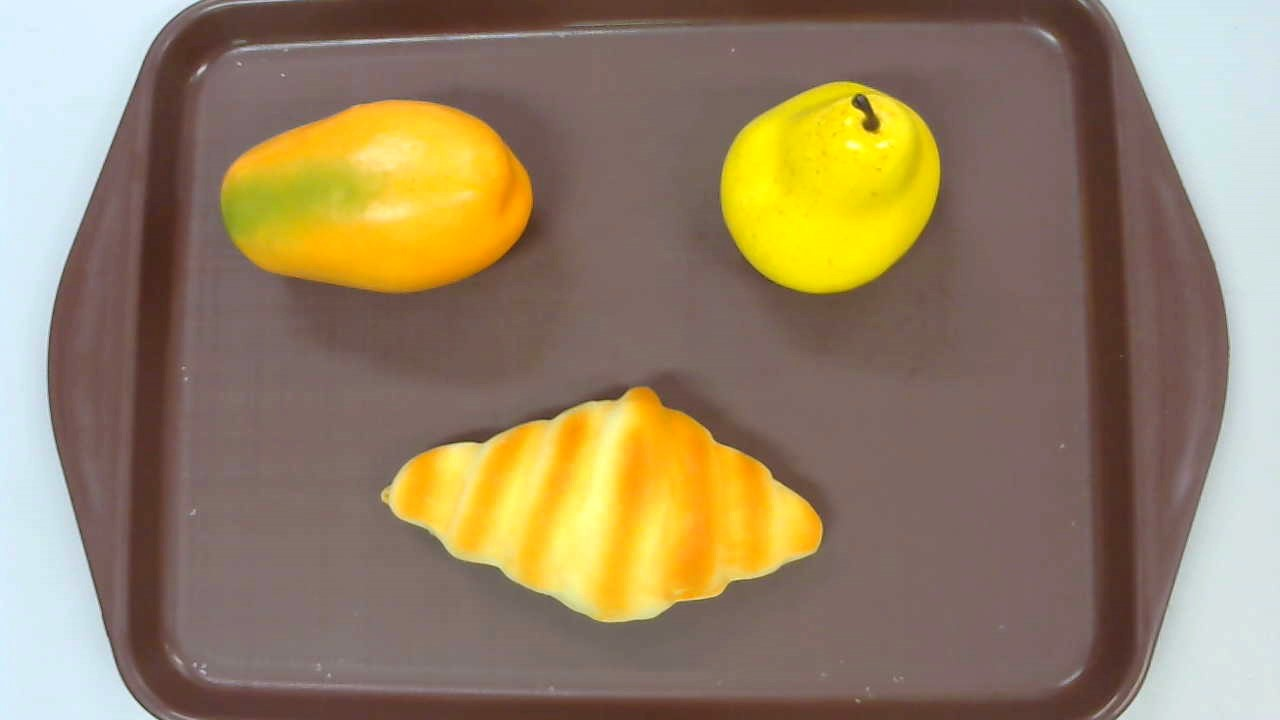croissant: (380, 386, 823, 626)
papya: (221, 99, 532, 295)
yellow pear: (720, 80, 940, 295)
